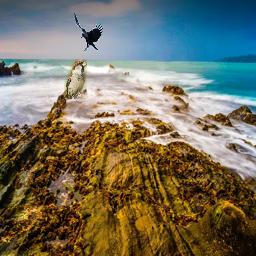Crow: (74, 12, 103, 52)
Sparrow: (64, 59, 87, 99)
